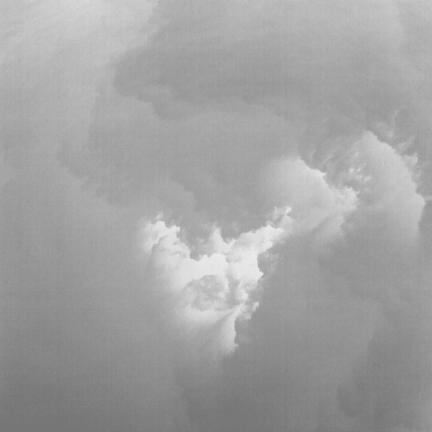flukeprints: (227, 225, 286, 300), (160, 246, 227, 285), (142, 220, 179, 254)
